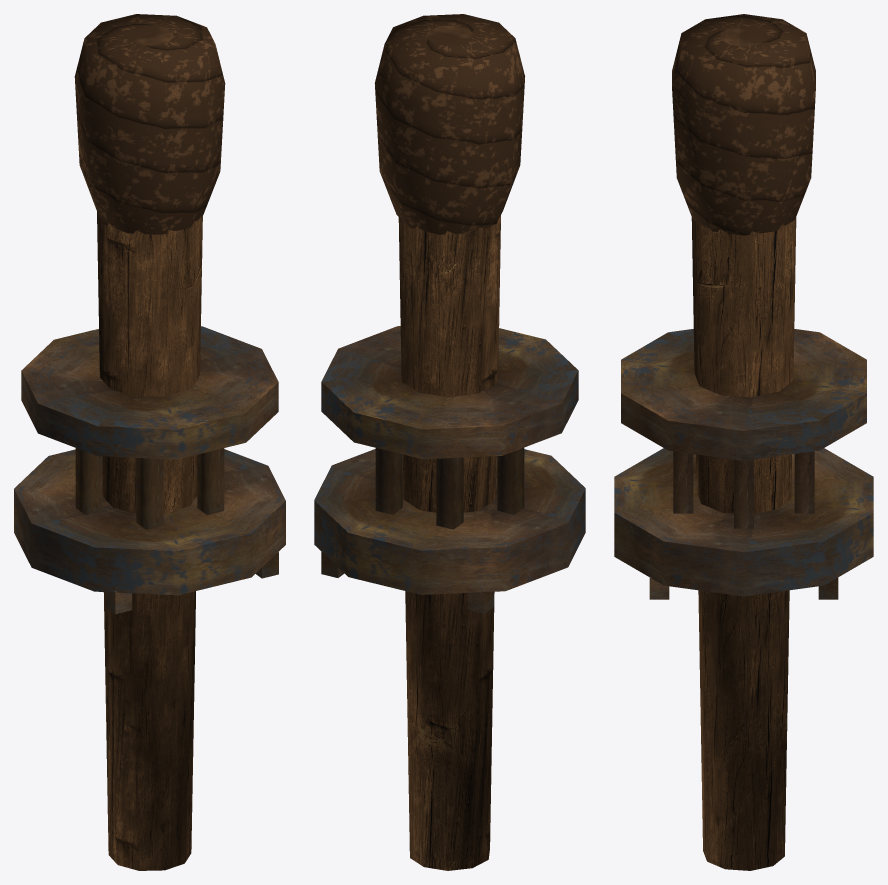
File: mm6_deco_torch_unlit_free.glb
3 views of the same model, side by side, from view 1: azimuth 30°, elevation 25°; view 2: azimuth 150°, elevation 25°; view 3: azimuth 270°, elevation 25° (orthographic).
Visible parts, largest first — view 1: TorchUnlitFree; view 2: TorchUnlitFree; view 3: TorchUnlitFree.
Part boxes in pixels (<box>): TorchUnlitFree: <box>14,14,285,870</box>; TorchUnlitFree: <box>314,14,585,870</box>; TorchUnlitFree: <box>614,14,873,870</box>.
Size of the model in its own units: 0.2742 by 0.9058 by 0.2608.
3 materials, 3 textured.
